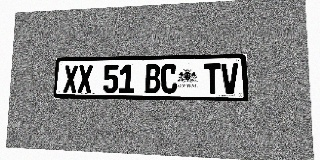1: (119, 64, 134, 94)
5: (103, 64, 119, 93)
B: (145, 64, 161, 94)
C: (161, 64, 177, 94)
T: (204, 63, 221, 94)
V: (221, 63, 239, 94)
X: (63, 65, 78, 93), (78, 65, 93, 93)
